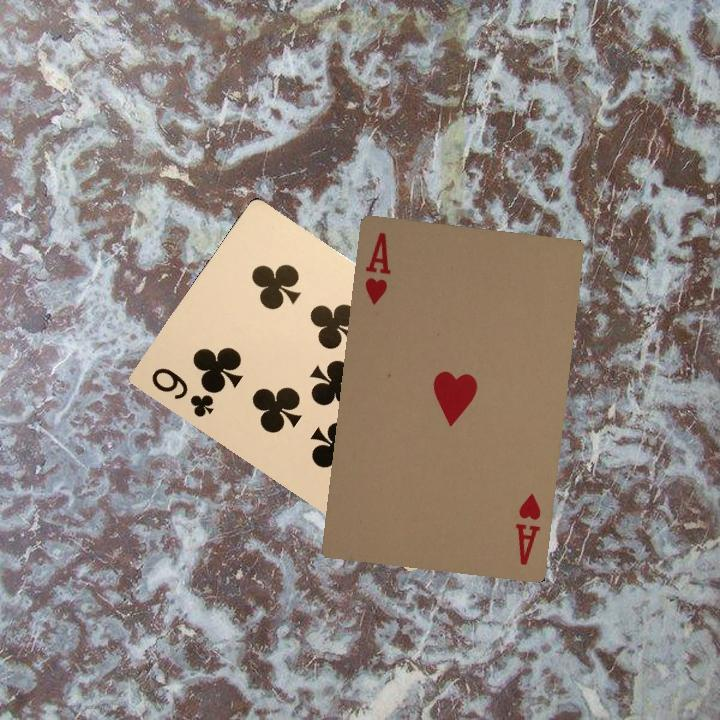9c: (147, 363, 217, 420)
Ah: (511, 489, 544, 568), (361, 228, 393, 308)
